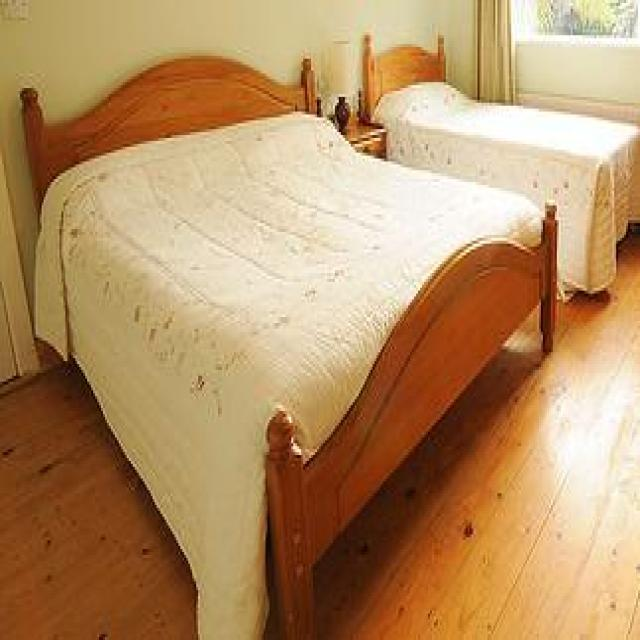bed: (18, 50, 559, 637), (361, 30, 638, 296)
